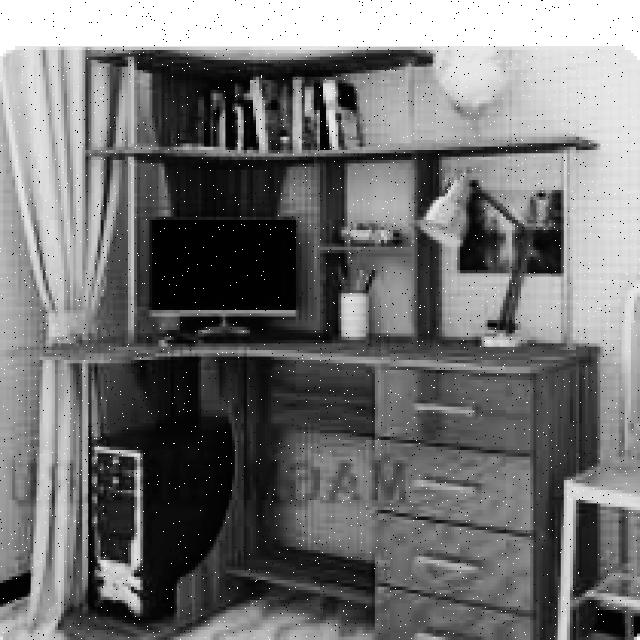book: (555, 273, 640, 639)
table: (6, 330, 604, 640)
